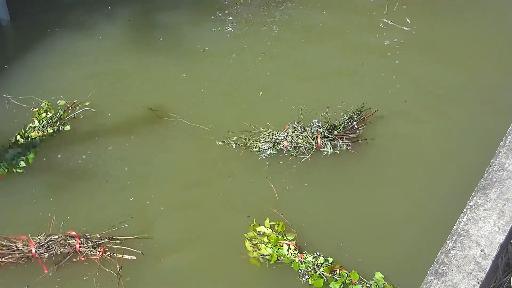twig: (161, 89, 396, 160), (246, 211, 417, 288), (0, 86, 92, 184), (0, 222, 167, 273)
